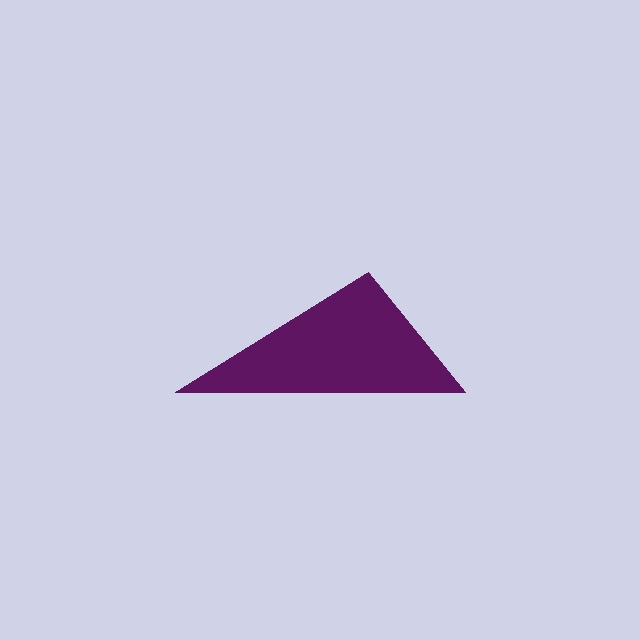triangle: (174, 272, 466, 392)
